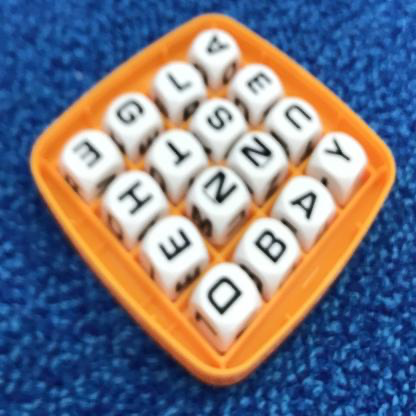a: (289, 186, 323, 223), (200, 29, 233, 61)
b: (253, 225, 289, 270)
d: (205, 272, 245, 321)
e: (154, 225, 201, 272), (68, 132, 106, 172), (244, 68, 277, 99)
g: (111, 94, 151, 134)
h: (116, 177, 161, 222)
l: (163, 62, 198, 98)
n: (232, 132, 282, 177), (199, 166, 243, 213)
s: (203, 102, 238, 134)
t: (161, 135, 197, 175)
u: (283, 100, 317, 137)
y: (324, 130, 355, 174)
